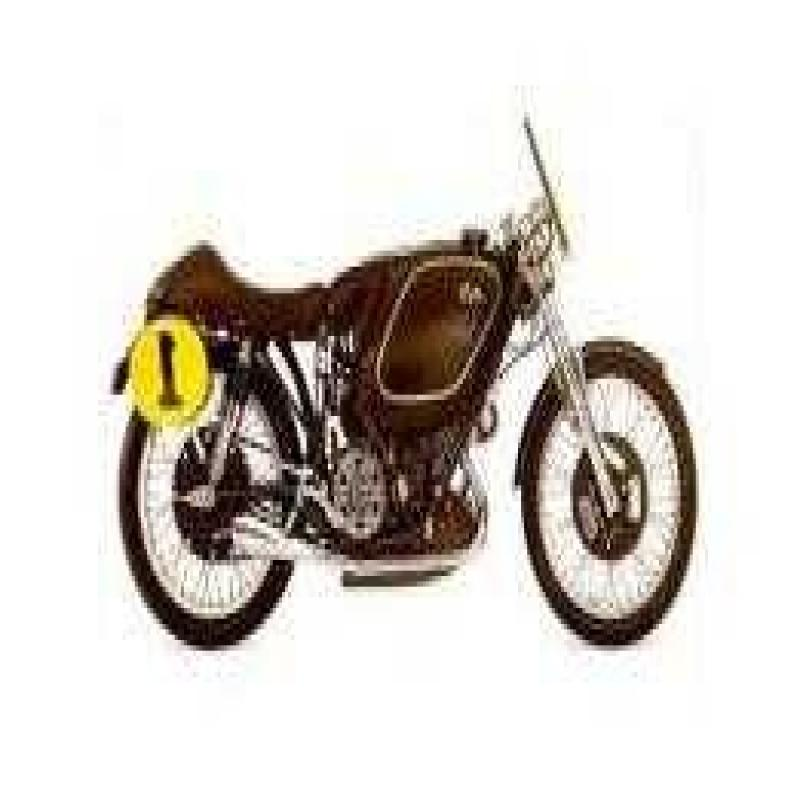bike: (86, 95, 714, 649)
